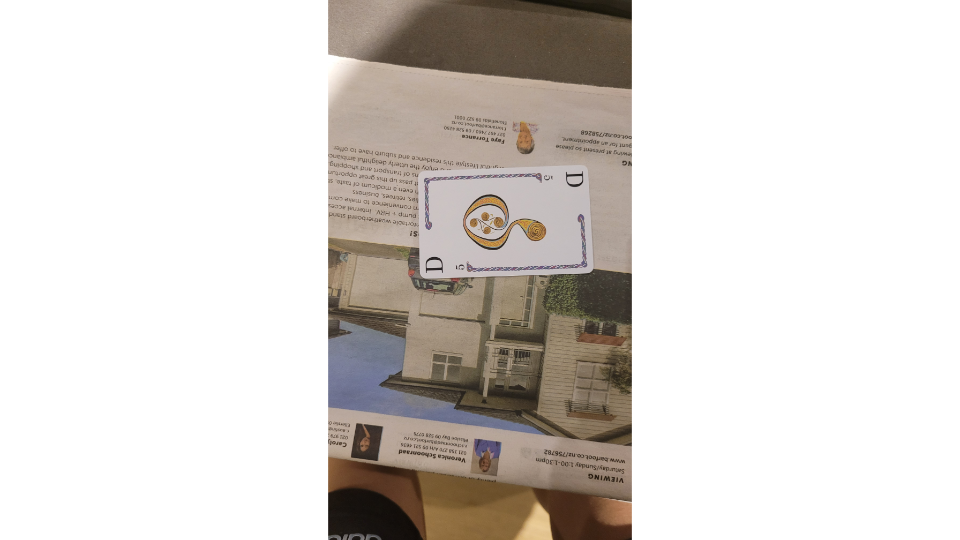D: (413, 163, 597, 281)
